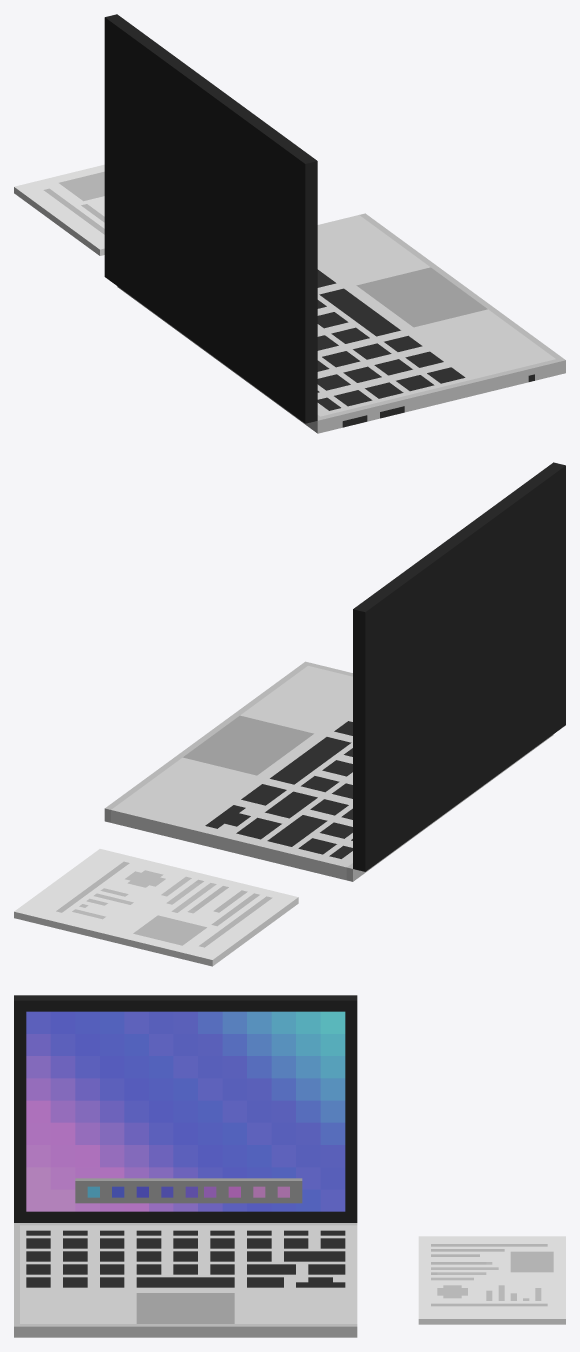
The model's file is laptop.glb.
The picture shows the model from 3 angles, top to bottom: view 1: azimuth 30°, elevation 25°; view 2: azimuth 150°, elevation 25°; view 3: azimuth 270°, elevation 25°; orthographic projection. The views are drawn at different scales.
Visible parts, largest first — view 1: laptop_0; view 2: laptop_0; view 3: laptop_0, laptop.002_2.
Boxes of the visible parts, x1=… form: laptop_0: x1=14, y1=14, x2=565, y2=433; laptop_0: x1=14, y1=462, x2=565, y2=966; laptop_0: x1=14, y1=995, x2=565, y2=1337; laptop.002_2: x1=26, y1=1011, x2=345, y2=1211.
Bounding box in the file's own units: 4.2 × 4.2 × 9.
Materials: 2 (2 with a texture image).
